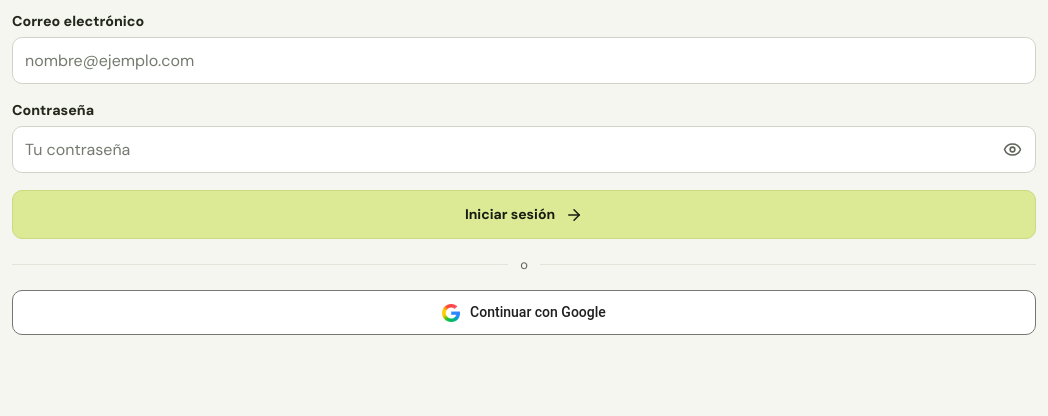
informa que Google fue bloqueado y permite volver a intentarlo
Step 1. Click the button "Continuar con Google" → x=524, y=312, box [12,290,1036,335]
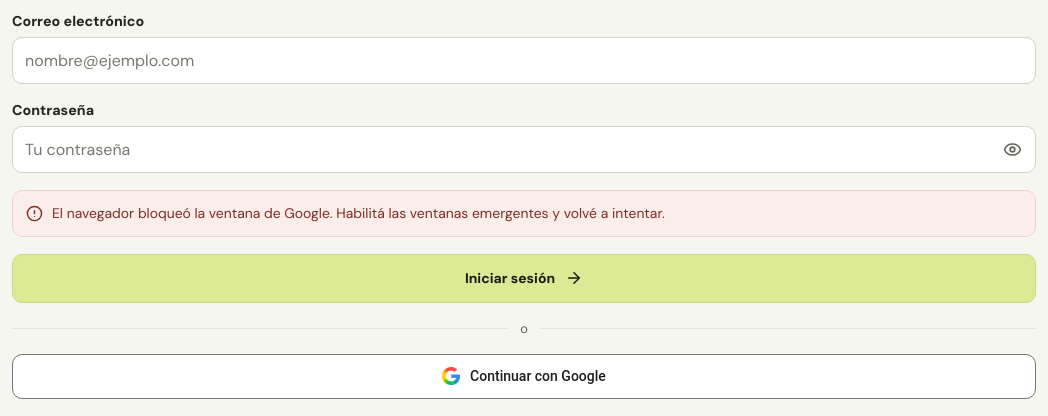
Expected: the button "Continuar con Google" is enabled, [12,354,1036,399]
Result: the message shows "El navegador bloqueó la ventana de Google." at [52,204,665,222]
